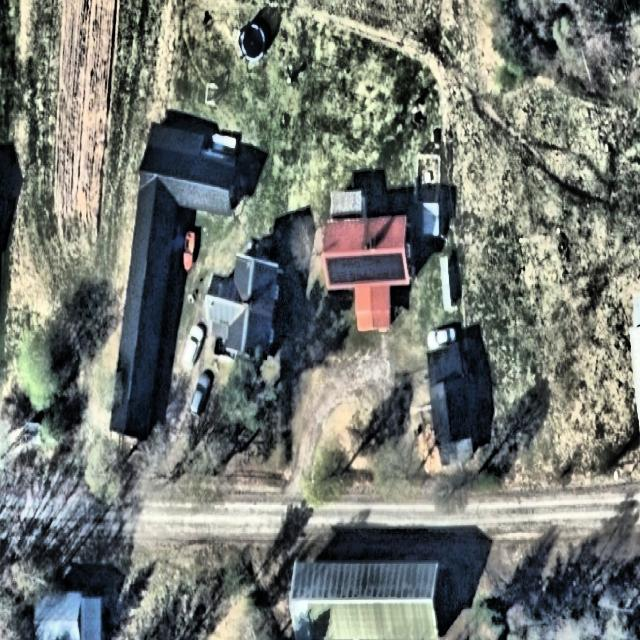roof_pv: (322, 252, 408, 289)
